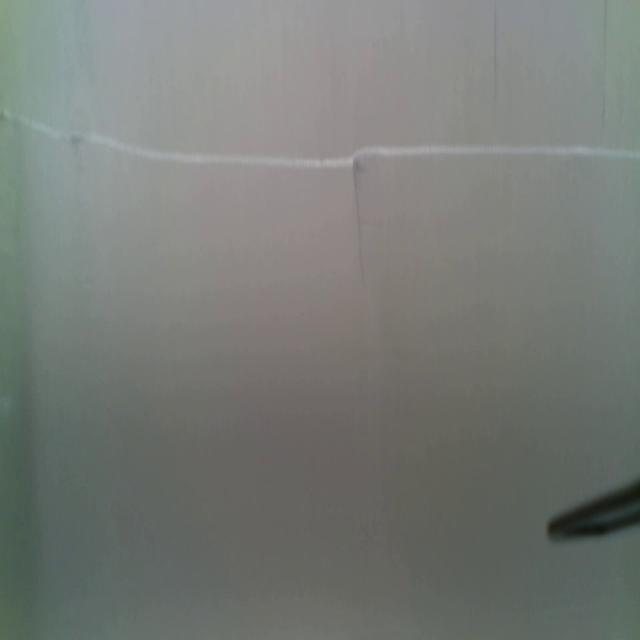crease: (352, 160, 366, 291), (600, 0, 610, 131), (492, 0, 500, 100)
